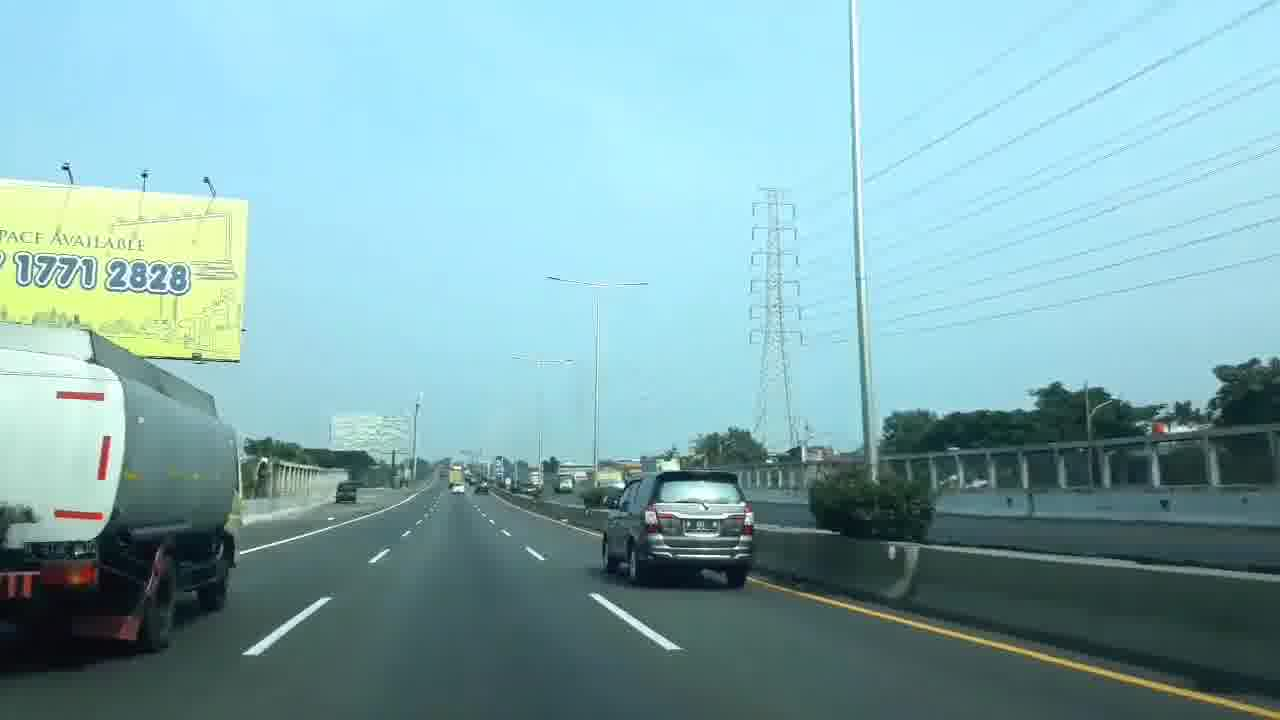plate_positive: (684, 519, 719, 533)
